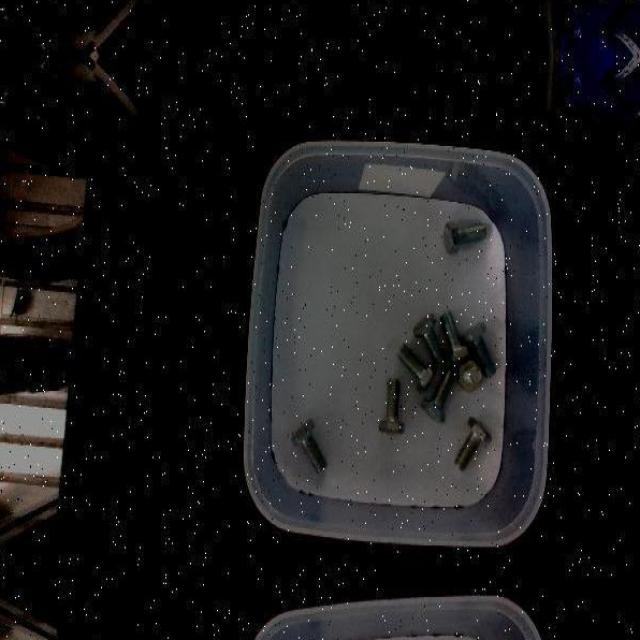screw: (397, 342, 437, 392), (455, 416, 492, 470), (290, 418, 326, 472), (421, 369, 456, 424), (462, 320, 496, 376), (412, 313, 447, 367), (442, 310, 472, 364), (378, 377, 404, 434), (444, 221, 486, 256), (457, 360, 482, 392)
